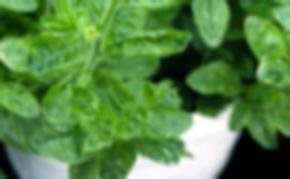Tomato leaf mosaic virus: (20, 25, 98, 75), (112, 30, 197, 60), (0, 79, 42, 122), (255, 57, 290, 87), (114, 118, 156, 140)
